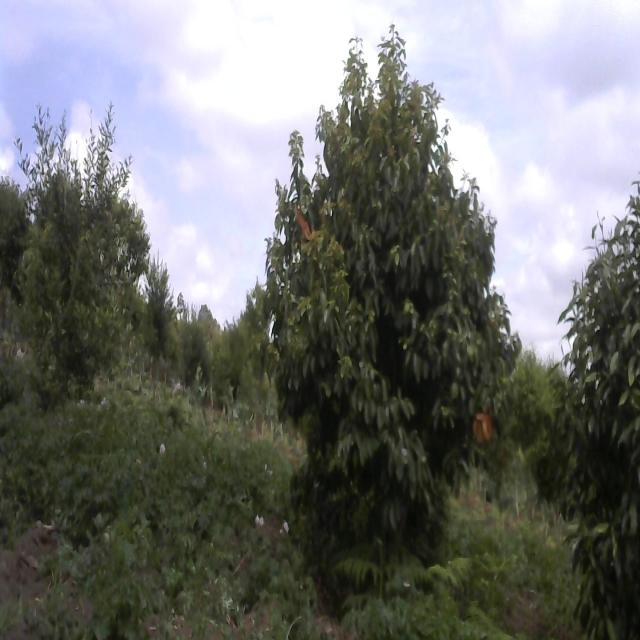Prunus Africana: (267, 23, 495, 569), (564, 180, 640, 616)
